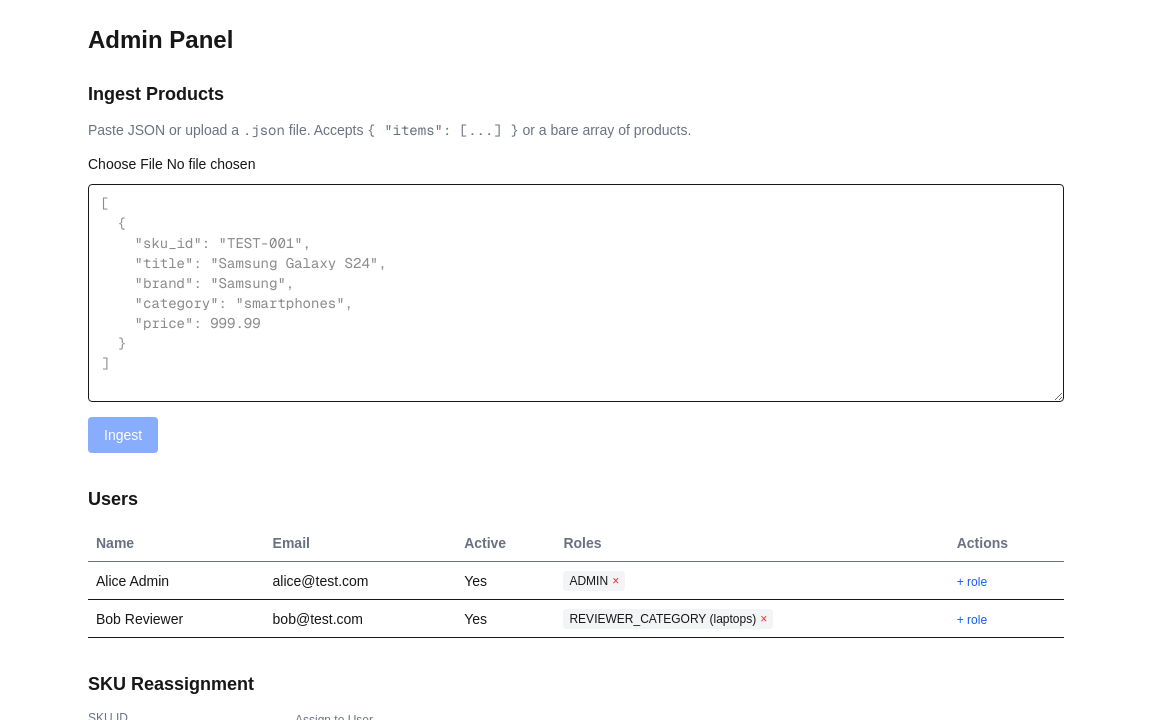
Test: Admin Panel › assign role shows form when + role clicked
The image size is (1152, 720).
Click the button "+ role" in the row of "Alice Admin": (972, 582) x1=957 y1=574 x2=987 y2=590
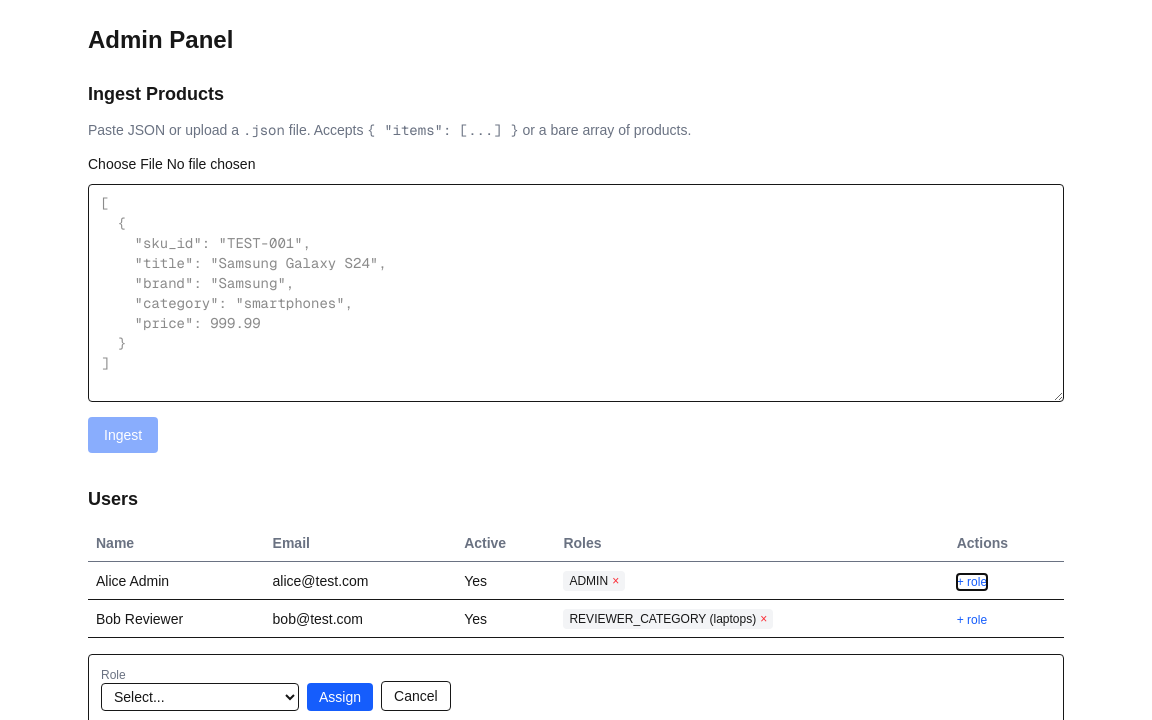
Expected: the text "Role" is shown, x1=101 y1=668 x2=126 y2=682
Expected: the button "Assign" is shown, x1=307 y1=683 x2=373 y2=711
